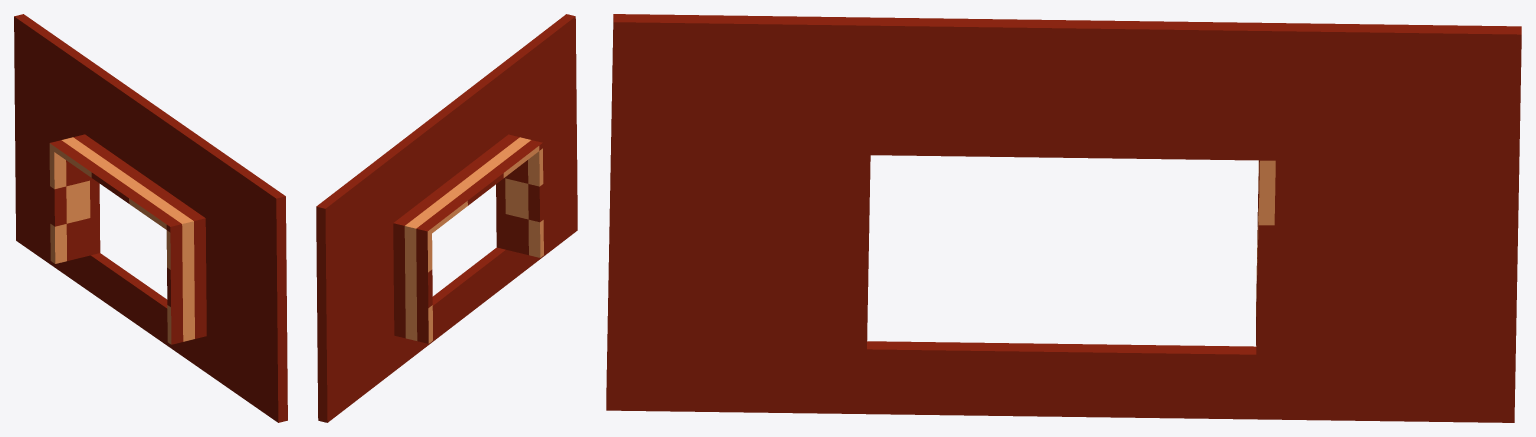
Rendered from Door.fbx.
The picture shows the model from 3 angles, left to right: view 1: azimuth 30°, elevation 25°; view 2: azimuth 150°, elevation 25°; view 3: azimuth 270°, elevation 25°; orthographic projection. The views are drawn at different scales.
Visible parts, largest first — view 1: Door; view 2: Door; view 3: Door.
Boxes of the visible parts, box(x1,y1,x2,y2) form: Door: box(14, 14, 287, 422); Door: box(316, 14, 577, 422); Door: box(606, 14, 1521, 422).
Size of the model in its own units: 1.28 by 12.49 by 6.06.
